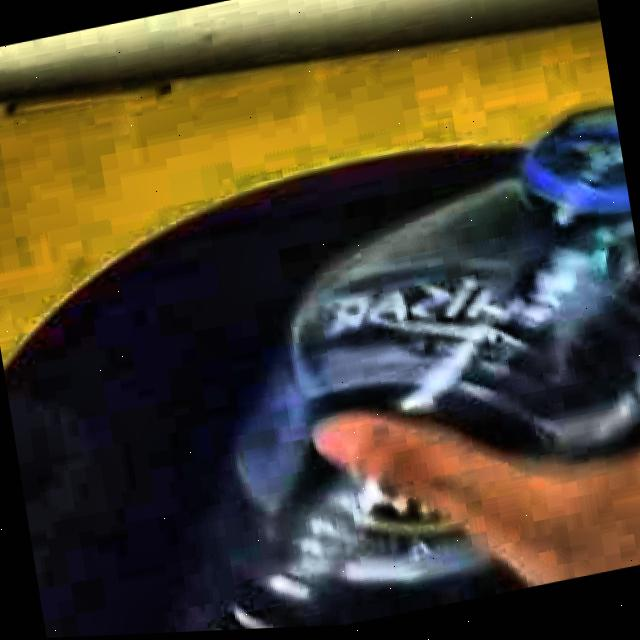plastic: (244, 113, 640, 606)
